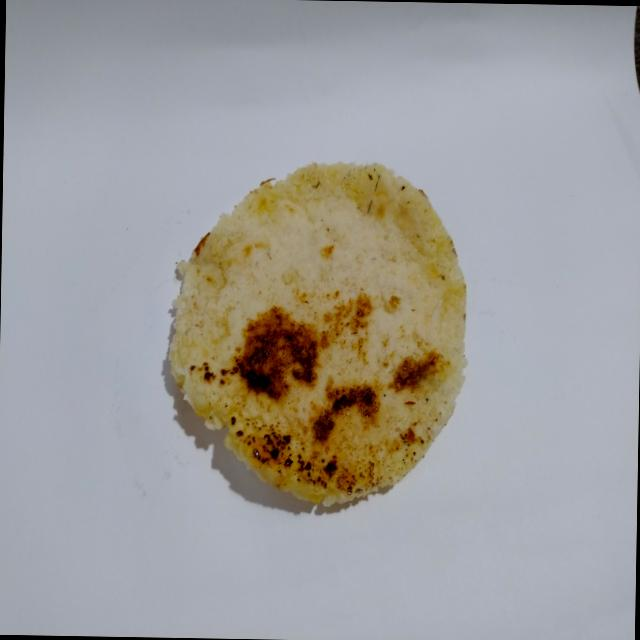Mbeju: (155, 149, 476, 521)
